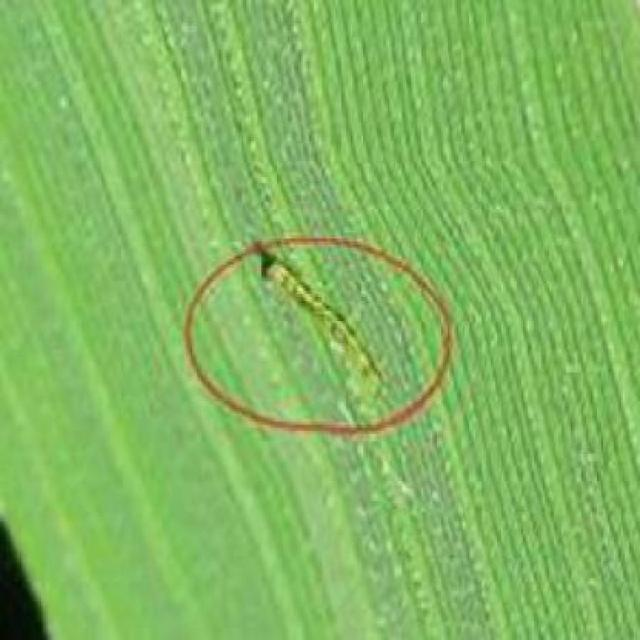leaf-folder: (242, 208, 406, 409)
